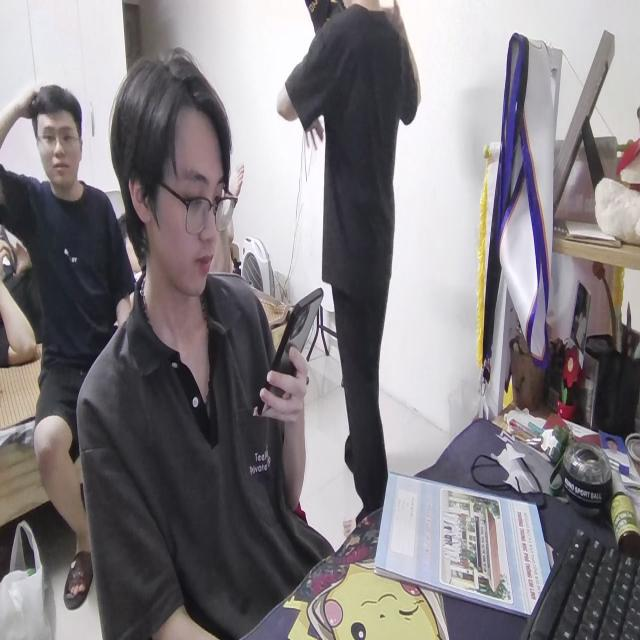book: (374, 461, 551, 618)
extra_person: (275, 0, 419, 525), (0, 80, 131, 594)
phone: (252, 287, 326, 419)
student: (80, 37, 334, 640)
